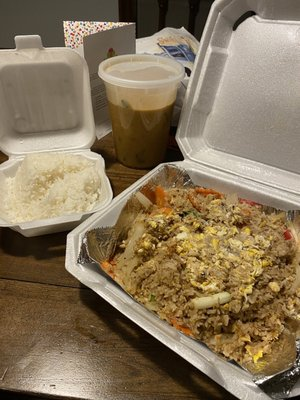pizza: (98, 53, 186, 170)
